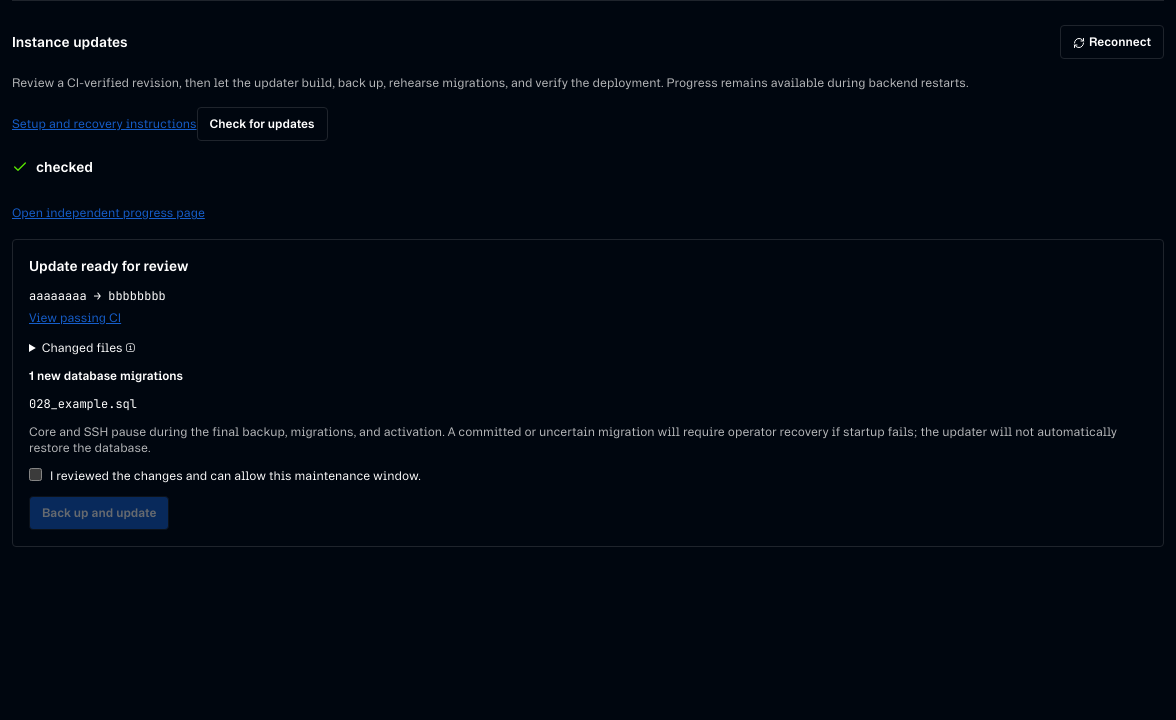
Test: requires review and binds the update request to the displayed revision
Expected: the button "Back up and update" is disabled, [29,496,169,530]
Expected: the list item "028_example.sql" is shown, [29,396,137,412]
Click the checkbox.
click(36, 474)  # box [29,468,42,481]
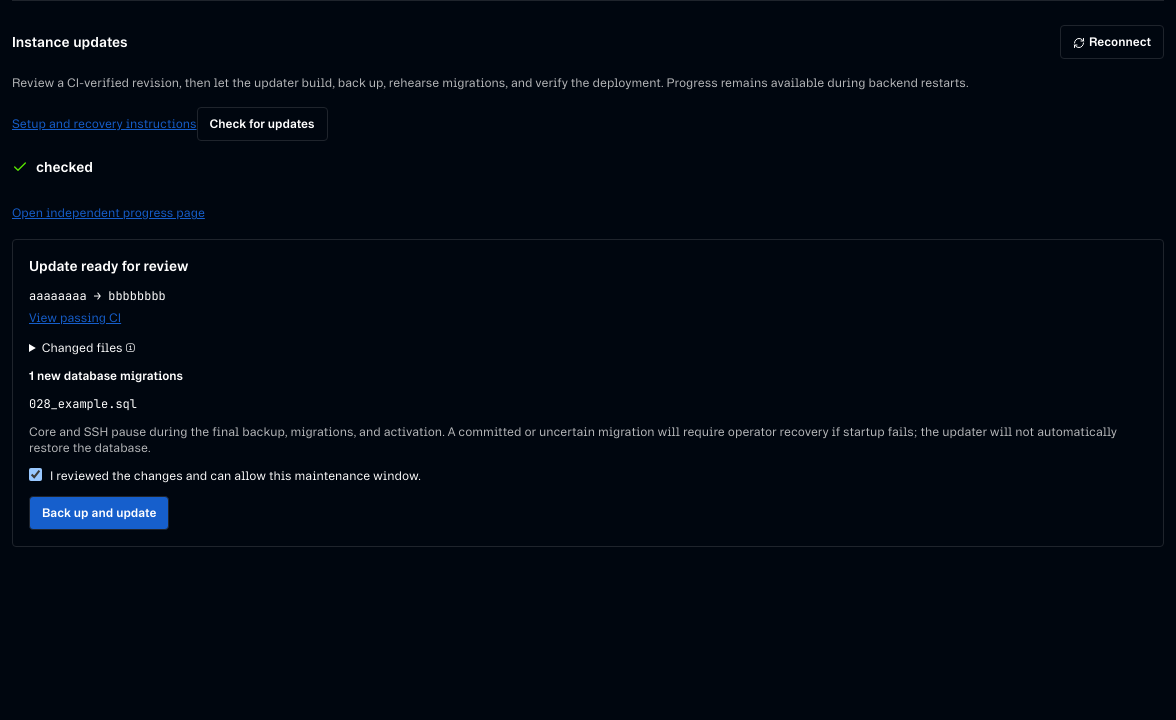
Click the button "Back up and update".
click(99, 513)  # box [29,496,169,530]
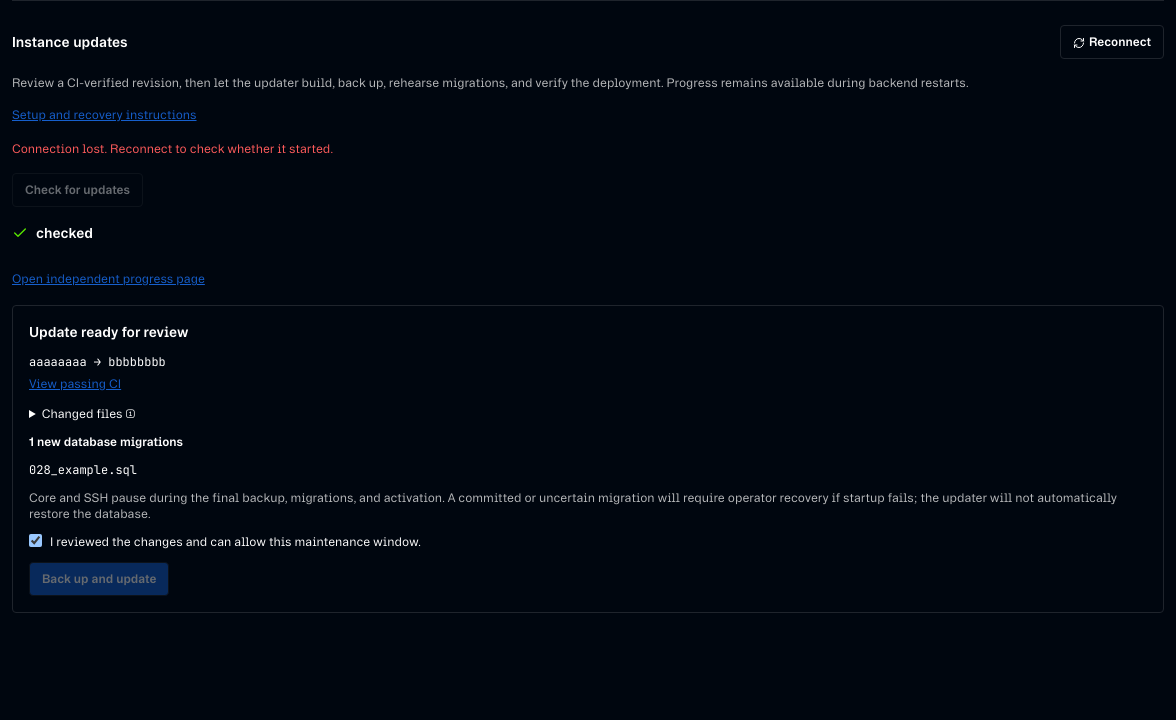
Expected: the message shows "Reconnect", [12,142,333,155]
Expected: the button "Back up and update" is disabled, [29,562,169,596]
